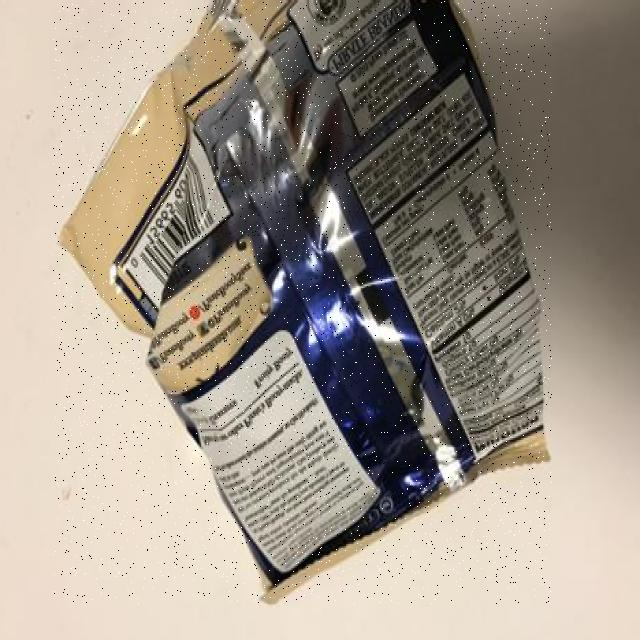wrapper: (54, 1, 552, 604)
